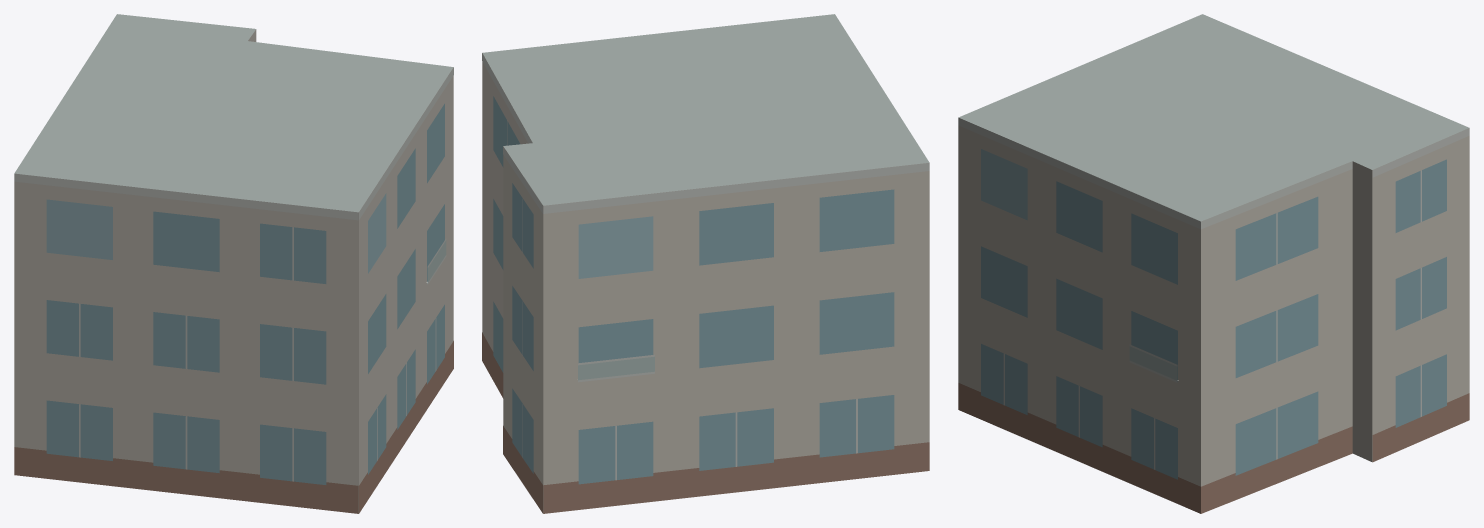
The model's file is survey-upis-32719229.glb.
3 views of the same model, side by side, from view 1: azimuth 30°, elevation 25°; view 2: azimuth 150°, elevation 25°; view 3: azimuth 270°, elevation 25° (orthographic). The views are drawn at different scales.
Parts seen in each view (by area): view 1: survey-upis-32719229.tmp; view 2: survey-upis-32719229.tmp; view 3: survey-upis-32719229.tmp.
Boxes of the visible parts, <box> form: survey-upis-32719229.tmp: <box>14,14,453,513</box>; survey-upis-32719229.tmp: <box>482,14,929,513</box>; survey-upis-32719229.tmp: <box>958,14,1469,513</box>.
Bounding box in the file's own units: 13.94 × 9.15 × 14.51.
